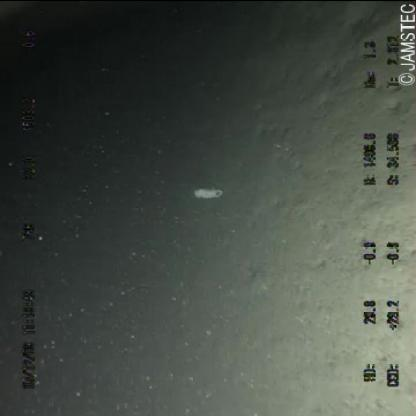Rác: (190, 183, 235, 201)
